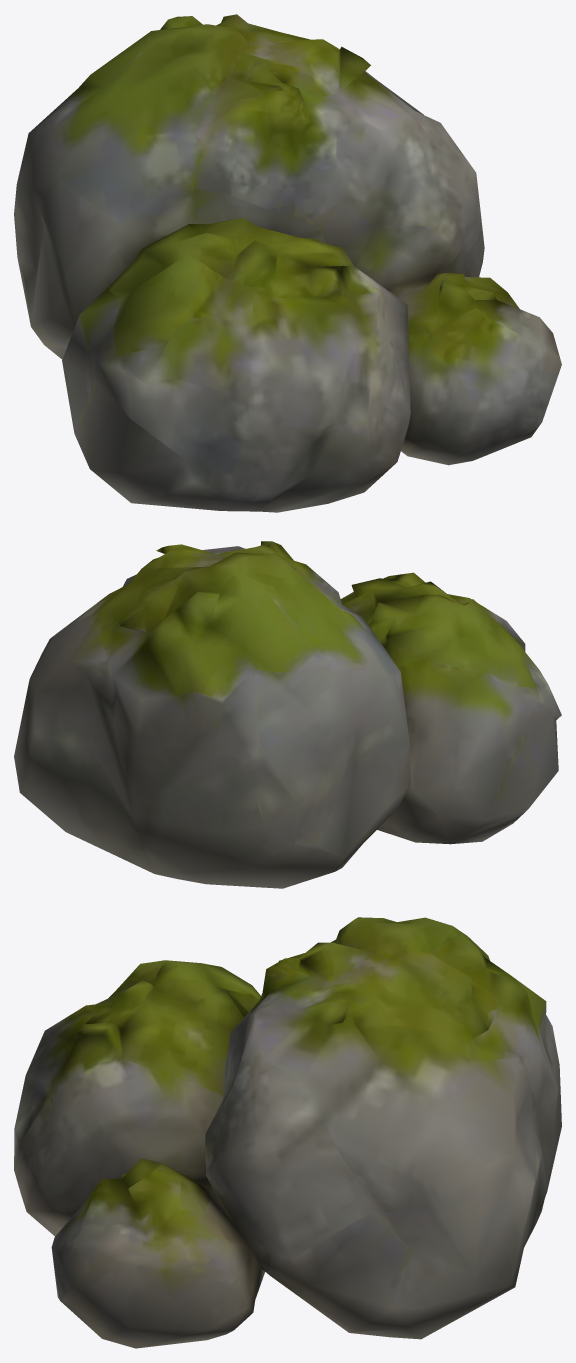
File: rock-cluster.glb
3 views of the same model, one above another, from view 1: azimuth 30°, elevation 25°; view 2: azimuth 150°, elevation 25°; view 3: azimuth 270°, elevation 25° (orthographic). The views are drawn at different scales.
Parts seen in each view (by area): view 1: rock-cluster; view 2: rock-cluster; view 3: rock-cluster.
Boxes of the visible parts, <box> form: rock-cluster: <box>14,14,561,512</box>; rock-cluster: <box>14,541,561,888</box>; rock-cluster: <box>14,917,561,1348</box>.
Size of the model in its own units: 2.73 by 2 by 2.88.
1 material, 1 textured.
